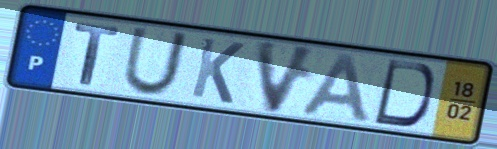A: (297, 50, 374, 126)
D: (370, 57, 437, 129)
K: (187, 35, 248, 107)
T: (72, 21, 121, 88)
U: (119, 25, 192, 98)
V: (253, 37, 322, 118)
